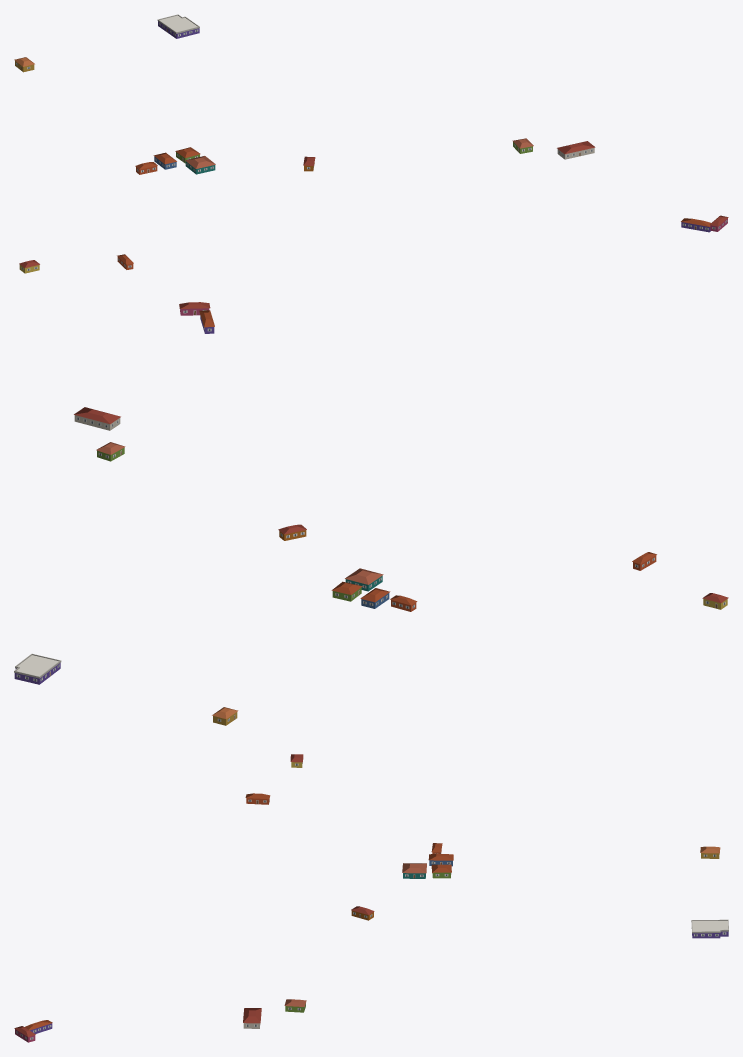
The model's file is msb_oranjestad_m16_0.glb.
3 views of the same model, one above another, from view 1: azimuth 30°, elevation 25°; view 2: azimuth 150°, elevation 25°; view 3: azimuth 270°, elevation 25° (orthographic). The views are drawn at different scales.
Parts seen in each view (by area): view 1: msb_oranjestad_m16_0_lod0; view 2: msb_oranjestad_m16_0_lod0; view 3: msb_oranjestad_m16_0_lod0.
Part boxes in pixels (x1=…): msb_oranjestad_m16_0_lod0: x1=14, y1=14, x2=728, y2=273; msb_oranjestad_m16_0_lod0: x1=14, y1=302, x2=728, y2=725; msb_oranjestad_m16_0_lod0: x1=14, y1=754, x2=728, y2=1042.
Size of what is drawn, in the model's own units: 364 by 8.79 by 383.
Materials: 3 (1 with a texture image).
